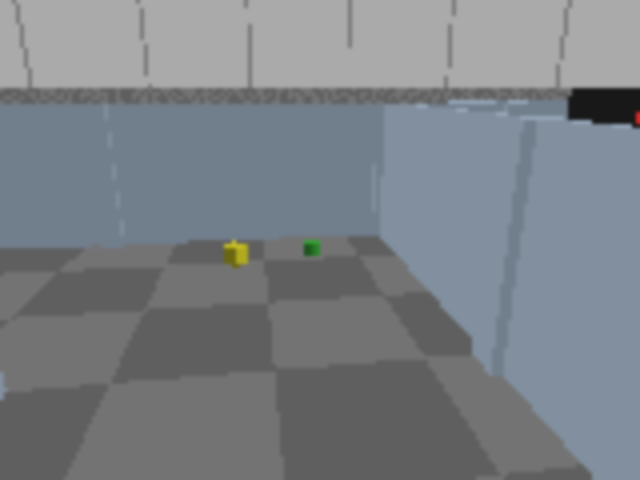puck: (222, 242, 248, 267)
